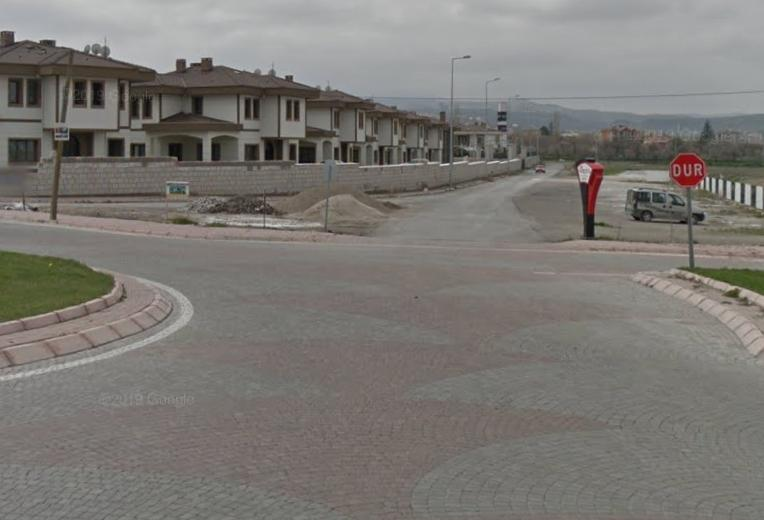stop: (670, 153, 705, 189)
